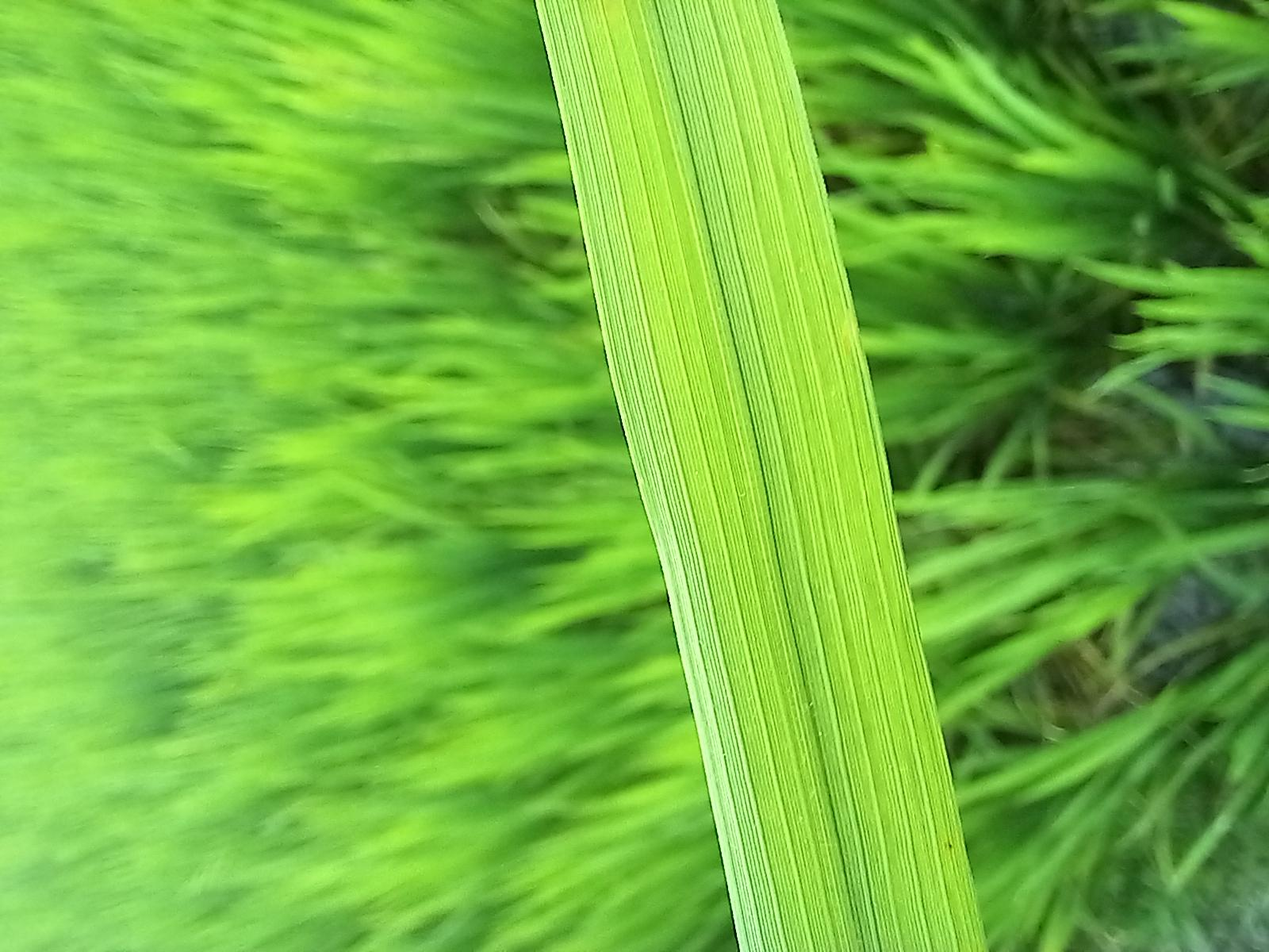Healthy: (0, 405, 1267, 738)
